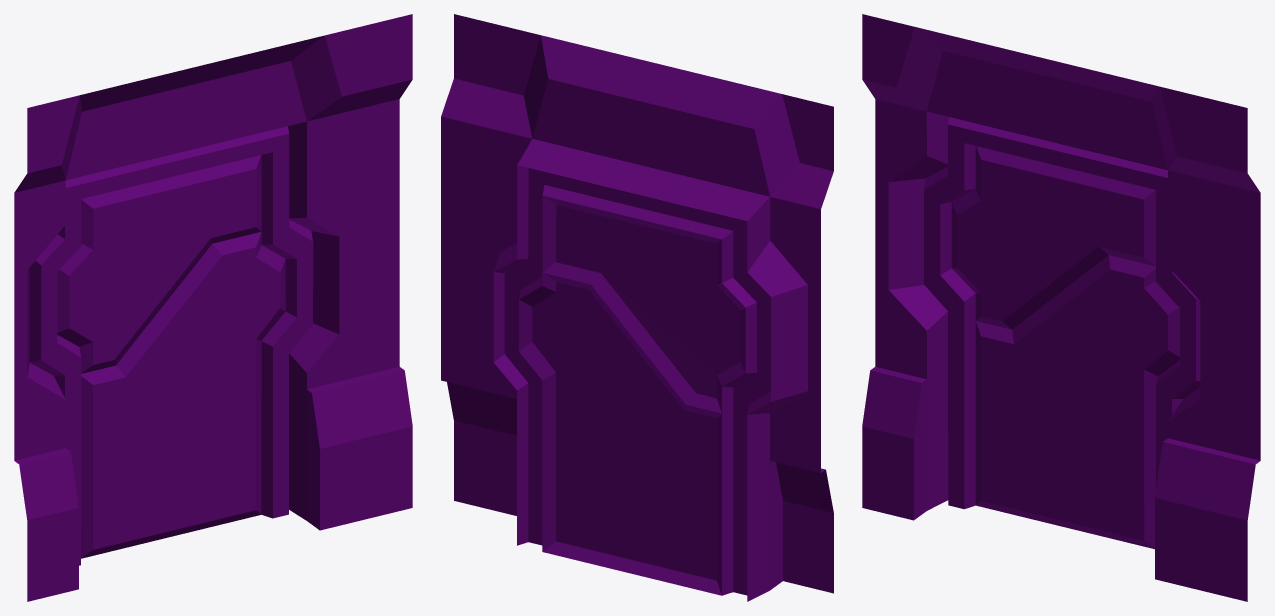
File: mesh_BuildingA_Door1_v2.fbx
3 views of the same model, side by side, from view 1: azimuth 30°, elevation 25°; view 2: azimuth 150°, elevation 25°; view 3: azimuth 330°, elevation 25° (orthographic).
Parts seen in each view (by area): view 1: mesh_BuildingA_Door1; view 2: mesh_BuildingA_Door1; view 3: mesh_BuildingA_Door1.
Part boxes in pixels (box(x1,y1,x2,y2)): mesh_BuildingA_Door1: box(14, 14, 412, 601); mesh_BuildingA_Door1: box(441, 14, 833, 601); mesh_BuildingA_Door1: box(862, 14, 1260, 601).
Size of the model in its own units: 164 by 200 by 22.62.
